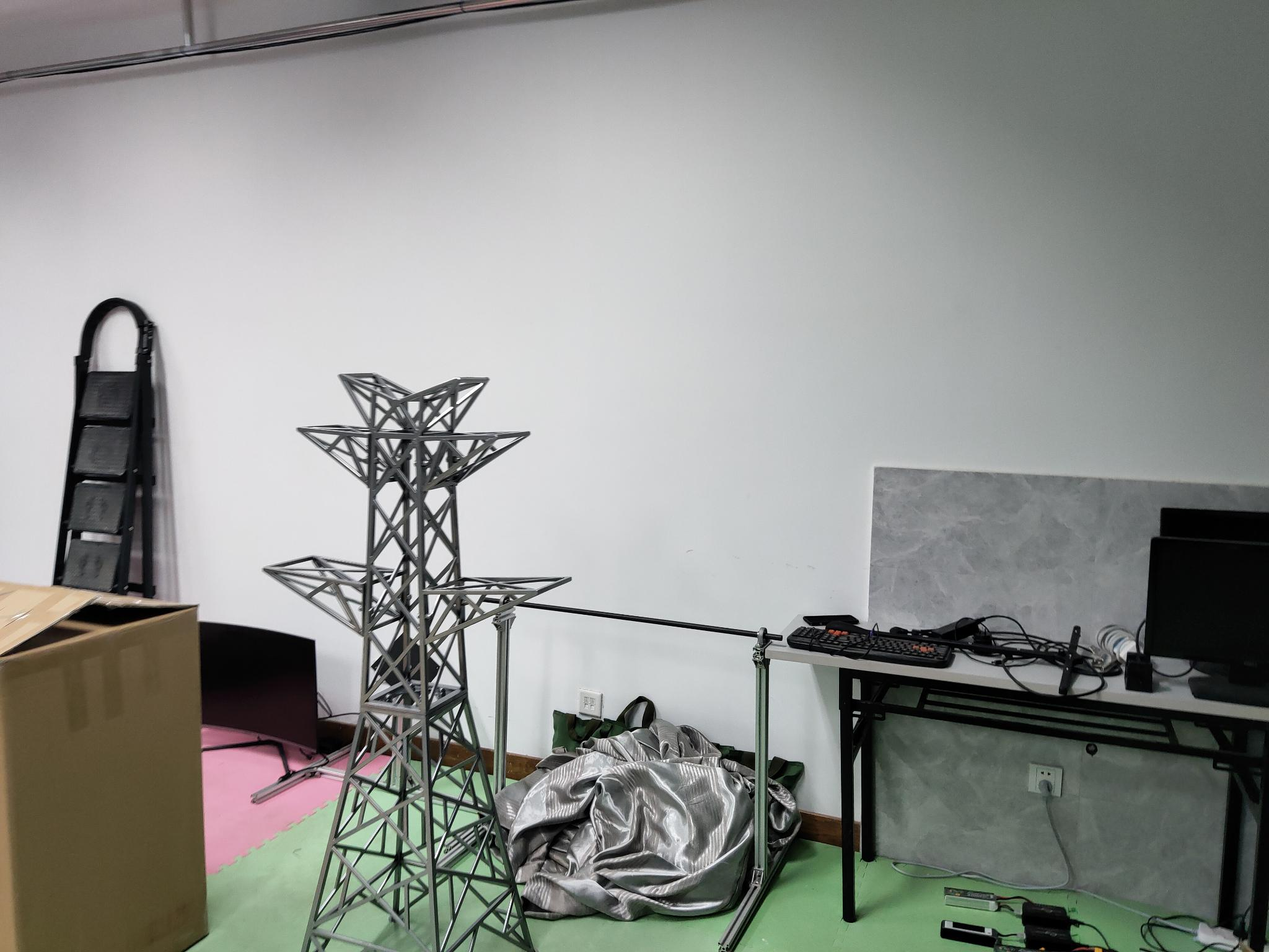tower: (255, 370, 569, 952)
